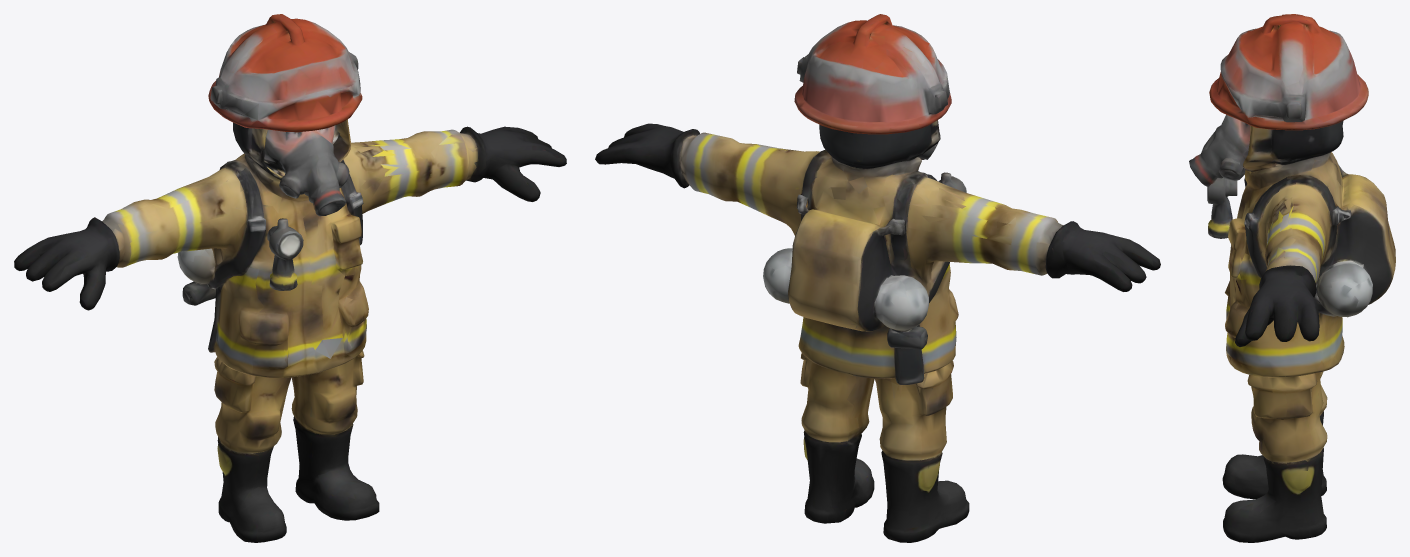
Rendered from Itfaiyeci.fbx.
3 renders of one model, left to right at view 1: azimuth 30°, elevation 25°; view 2: azimuth 150°, elevation 25°; view 3: azimuth 270°, elevation 25°, orthographic. The views are drawn at different scales.
Visible parts, largest first — view 1: Itfaiyeci; view 2: Itfaiyeci; view 3: Itfaiyeci.
Boxes of the visible parts, <box> form: Itfaiyeci: <box>14,14,566,542</box>; Itfaiyeci: <box>595,14,1160,542</box>; Itfaiyeci: <box>1189,14,1395,542</box>.
Size of the model in its own units: 2.02 by 1.8 by 0.6818.
Materials: 1 (1 with a texture image).
